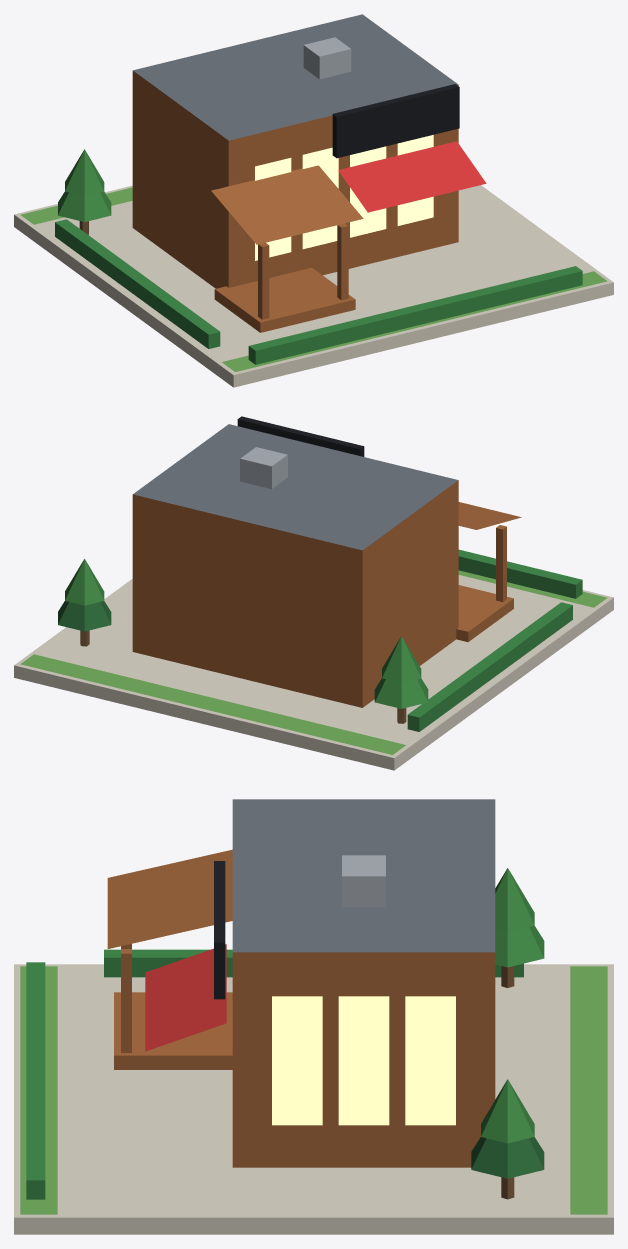
3 renders of one model, top to bottom at view 1: azimuth 30°, elevation 25°; view 2: azimuth 150°, elevation 25°; view 3: azimuth 270°, elevation 25°, orthographic. The views are drawn at different scales.
Parts seen in each view (by area): view 1: b14; view 2: b14; view 3: b14.
Boxes of the visible parts, left/top/right/bottom form: b14: left=14, top=14, right=613, bottom=387; b14: left=14, top=416, right=613, bottom=770; b14: left=14, top=799, right=613, bottom=1234.
Size of the model in its own units: 0.96 by 0.465 by 0.96.
